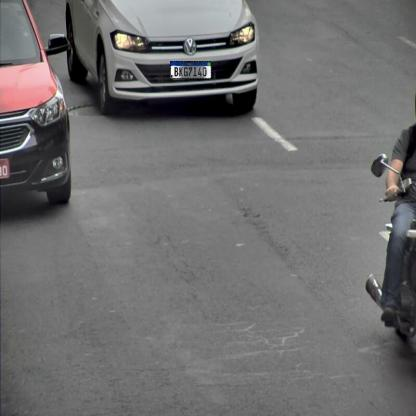PlacaM: (170, 61, 212, 79)
